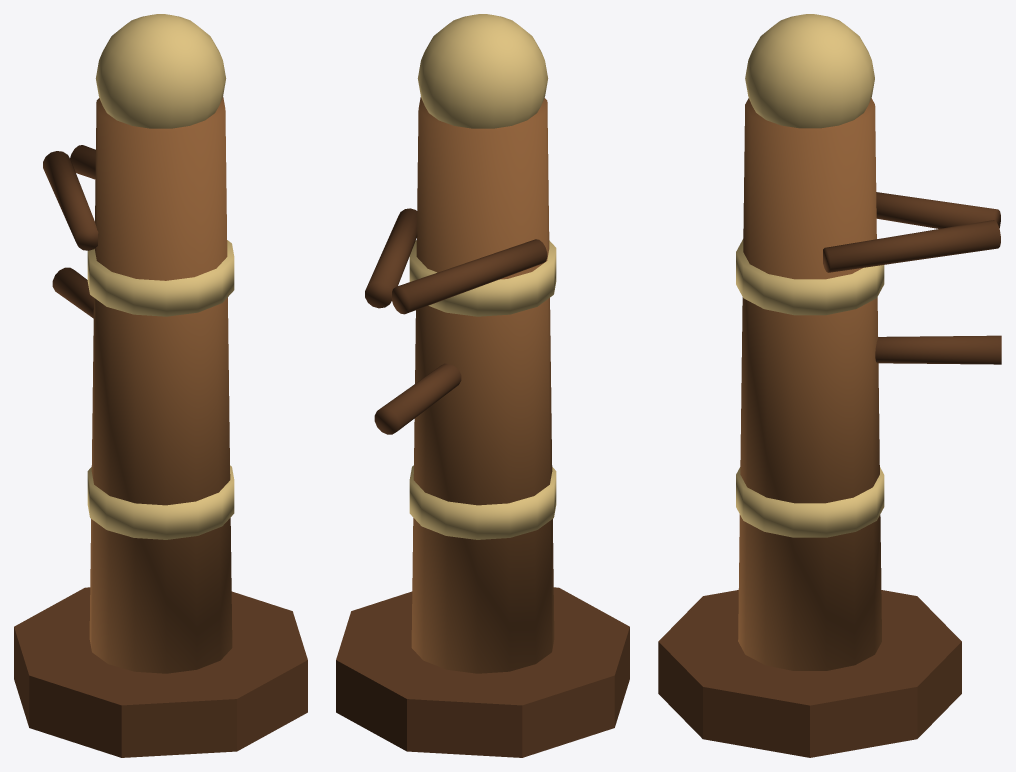
The model's file is training_dummy.glb.
3 views of the same model, side by side, from view 1: azimuth 30°, elevation 25°; view 2: azimuth 150°, elevation 25°; view 3: azimuth 270°, elevation 25° (orthographic).
Visible parts, largest first — view 1: Post; view 2: Post; view 3: Post.
Part boxes in pixels (x1,y1,x2,y2): Post: (14,14,307,757); Post: (336,14,629,757); Post: (658,14,1001,757).
Size of the model in its own units: 0.84 by 2.06 by 0.95.
